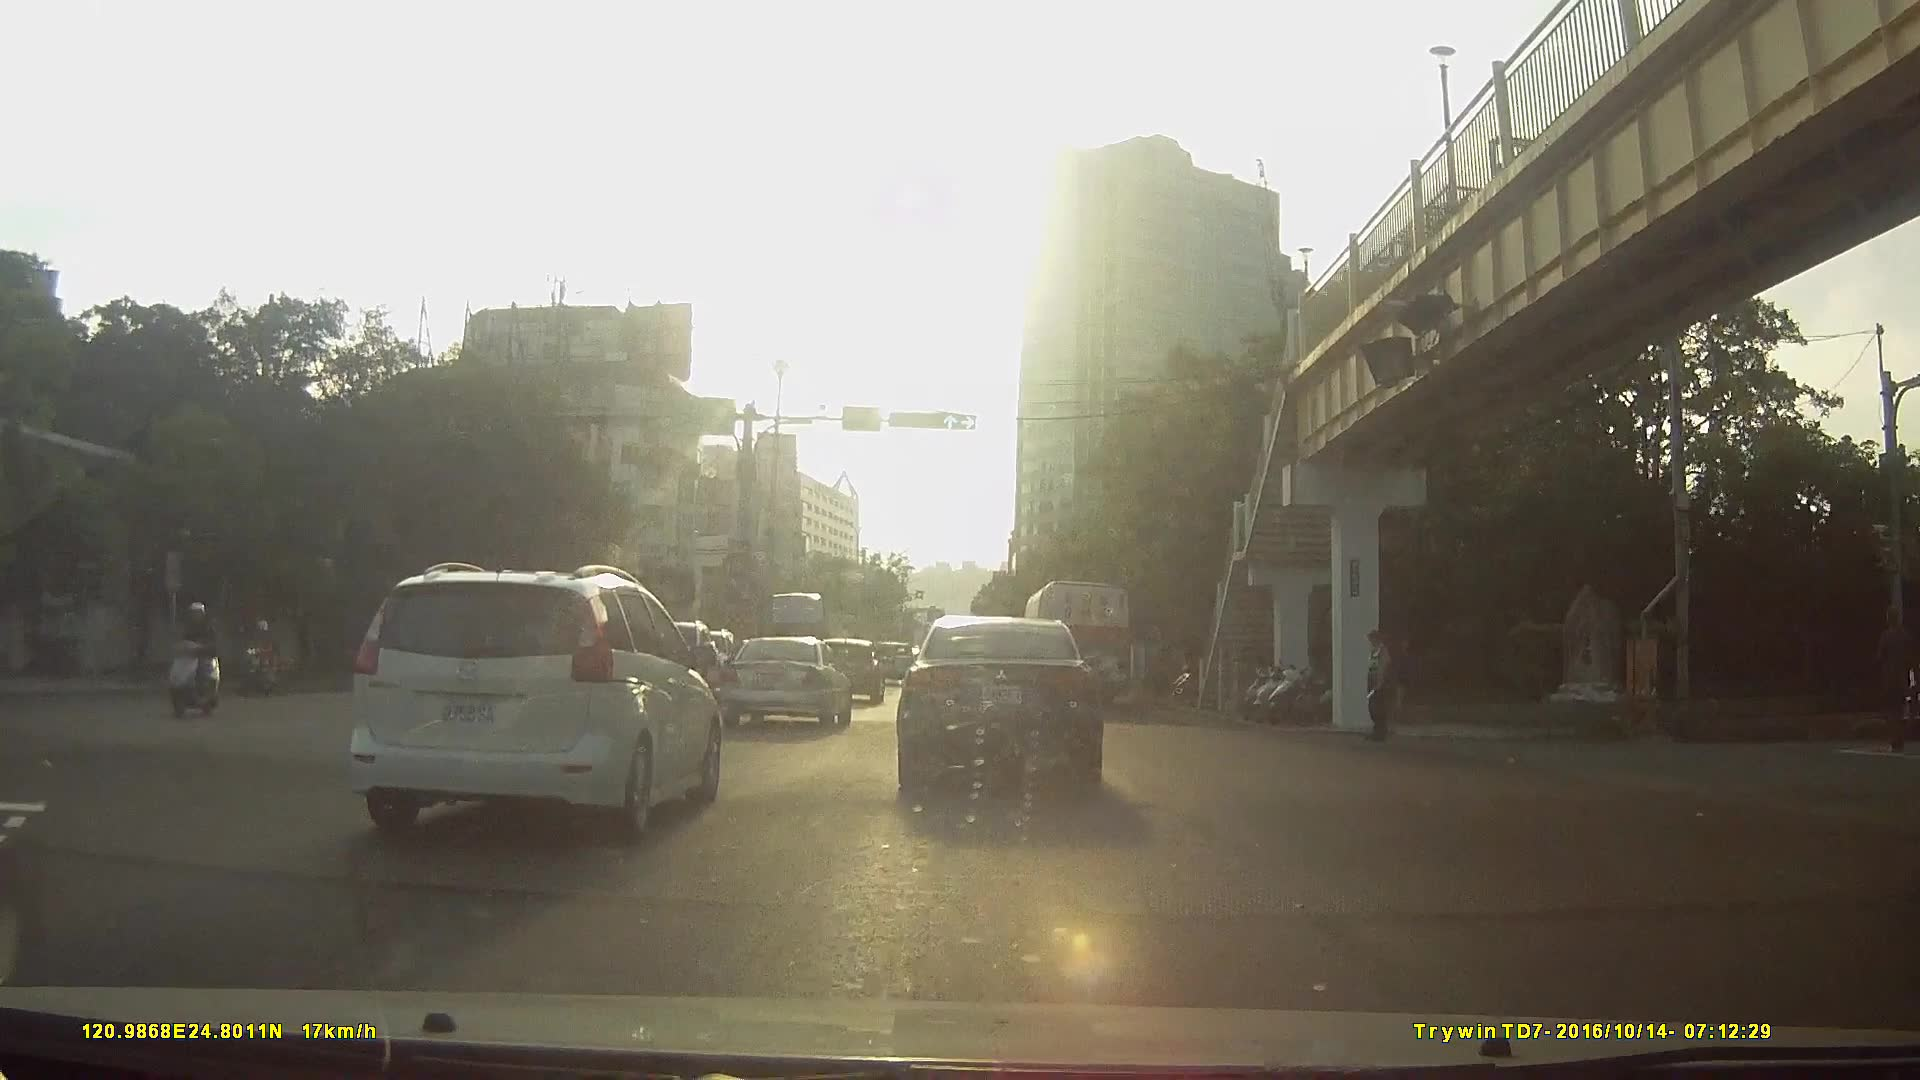pedestrian: (1360, 628, 1401, 748)
rider: (163, 600, 225, 717), (237, 618, 279, 696)
vehicle: (345, 564, 718, 846), (893, 613, 1101, 801), (1021, 579, 1128, 709), (715, 639, 852, 735), (806, 639, 877, 708), (863, 640, 912, 689)
